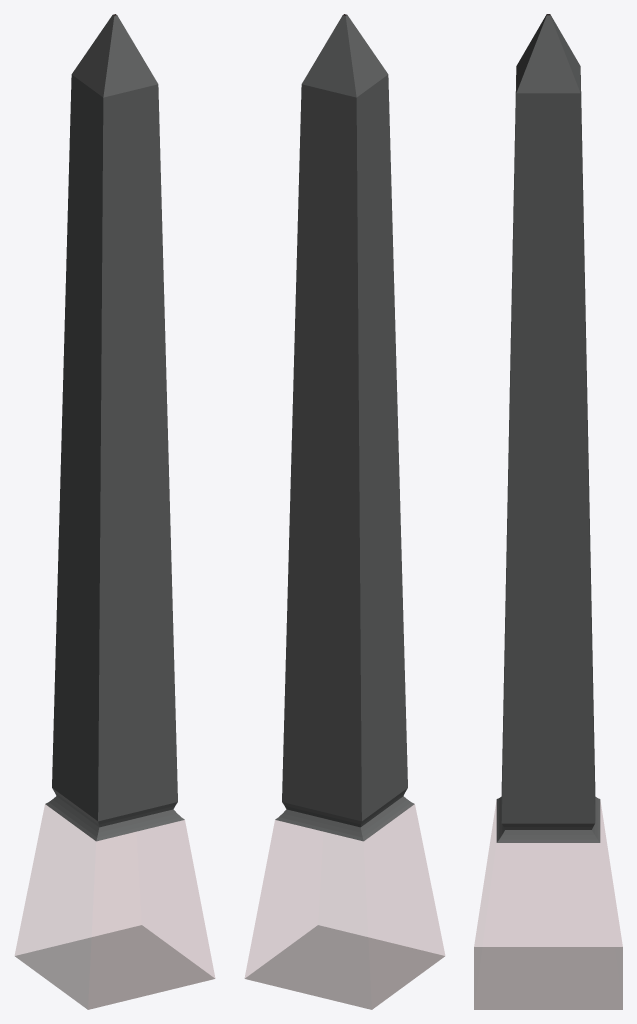
The model's file is obelisc.obj.
3 renders of one model, left to right at view 1: azimuth 30°, elevation 25°; view 2: azimuth 150°, elevation 25°; view 3: azimuth 270°, elevation 25°, orthographic.
Parts seen in each view (by area): view 1: cube; view 2: cube; view 3: cube.
Boxes of the visible parts, x1,y1,x2,y2 form: cube: (15, 14, 215, 1009); cube: (244, 14, 444, 1009); cube: (474, 14, 622, 1009).
Size of the model in its own units: 8.7 by 62.11 by 8.7.
